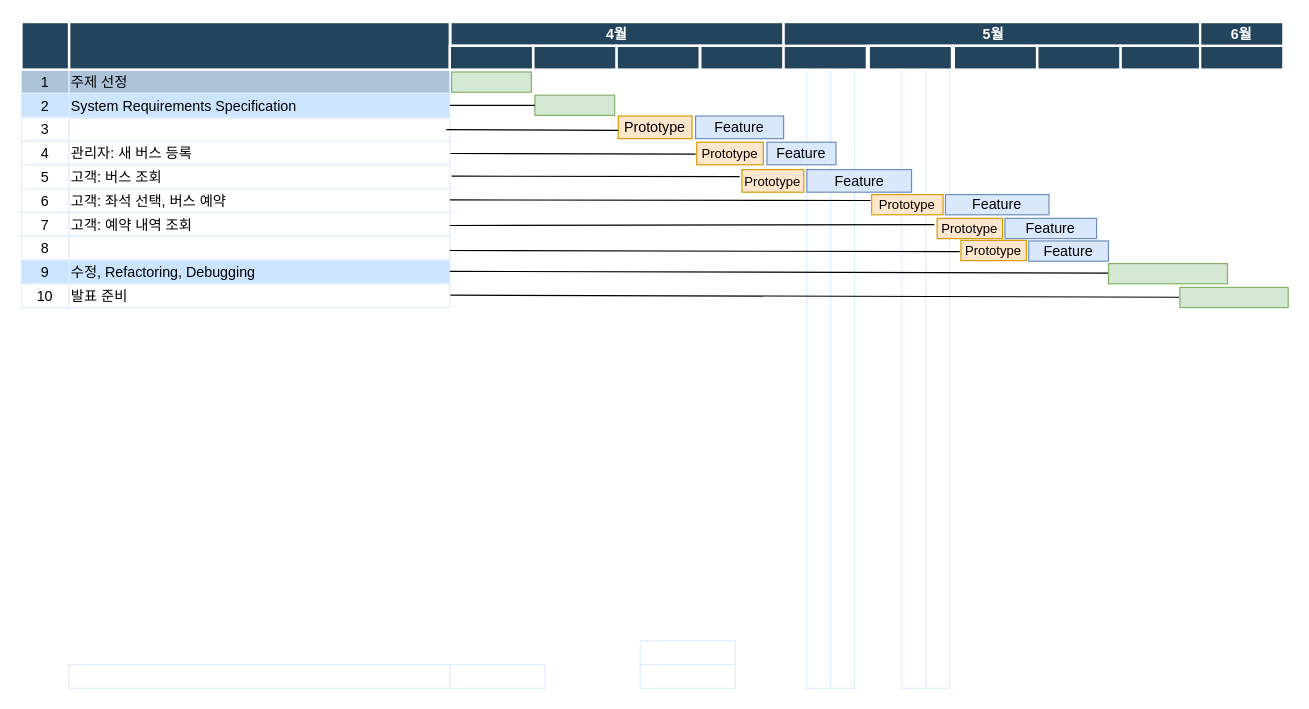
The diagram is 1309 pixels wide and 709 high, and some of its shapes have lost their labels. The shapes that lost their labels are listed below. From the top down, each one's box as (x1, y1, x2, y2) in pixels, then its label:
(67, 20, 450, 70): Task Name
(68, 117, 450, 142): 유저인증 (로그인, 가입)
(68, 235, 450, 260): 관리자: 시스템 통계 조회
